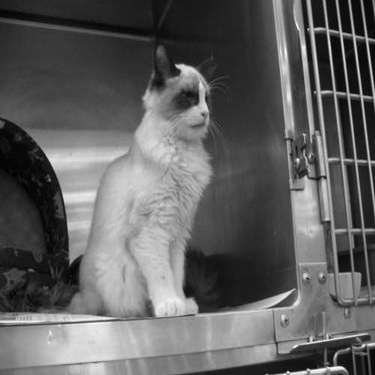cat: (1, 58, 212, 321)
